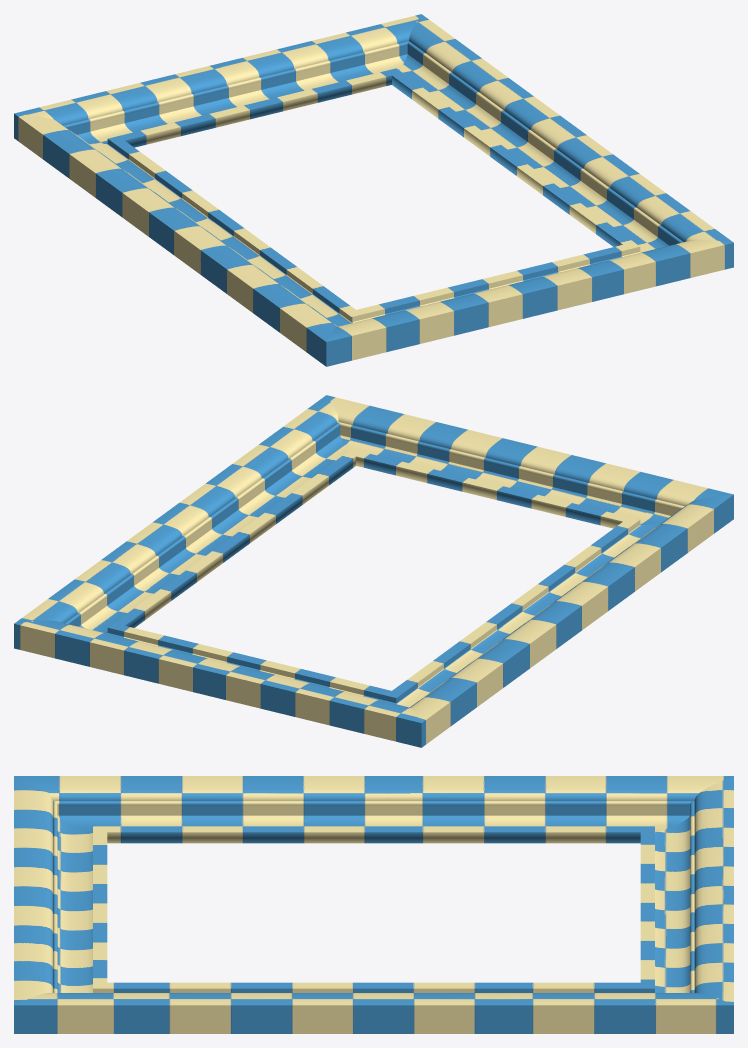
File: M_frame_01.fbx
3 views of the same model, one above another, from view 1: azimuth 30°, elevation 25°; view 2: azimuth 150°, elevation 25°; view 3: azimuth 270°, elevation 25° (orthographic). The views are drawn at different scales.
Visible parts, largest first — view 1: Shape; view 2: Shape; view 3: Shape.
Boxes of the visible parts, bbox=[...] form: Shape: bbox=[14, 14, 733, 366]; Shape: bbox=[14, 395, 733, 747]; Shape: bbox=[14, 776, 733, 1033].
Size of the model in its own units: 1.92 by 0.112 by 2.54.
